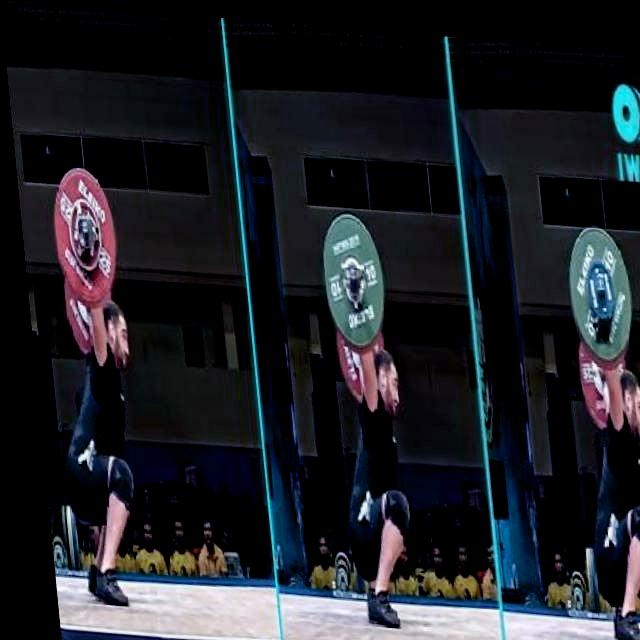barbell: (307, 201, 405, 350), (545, 208, 640, 357), (44, 153, 123, 308)
